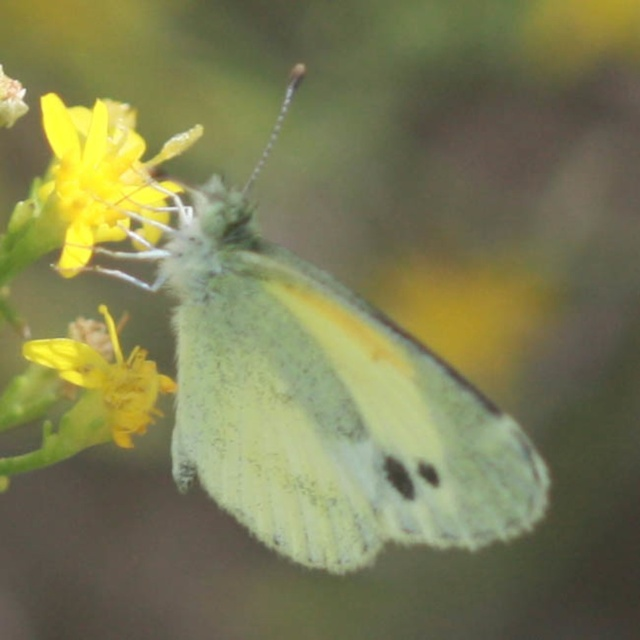Butterfly: (49, 61, 553, 579)
